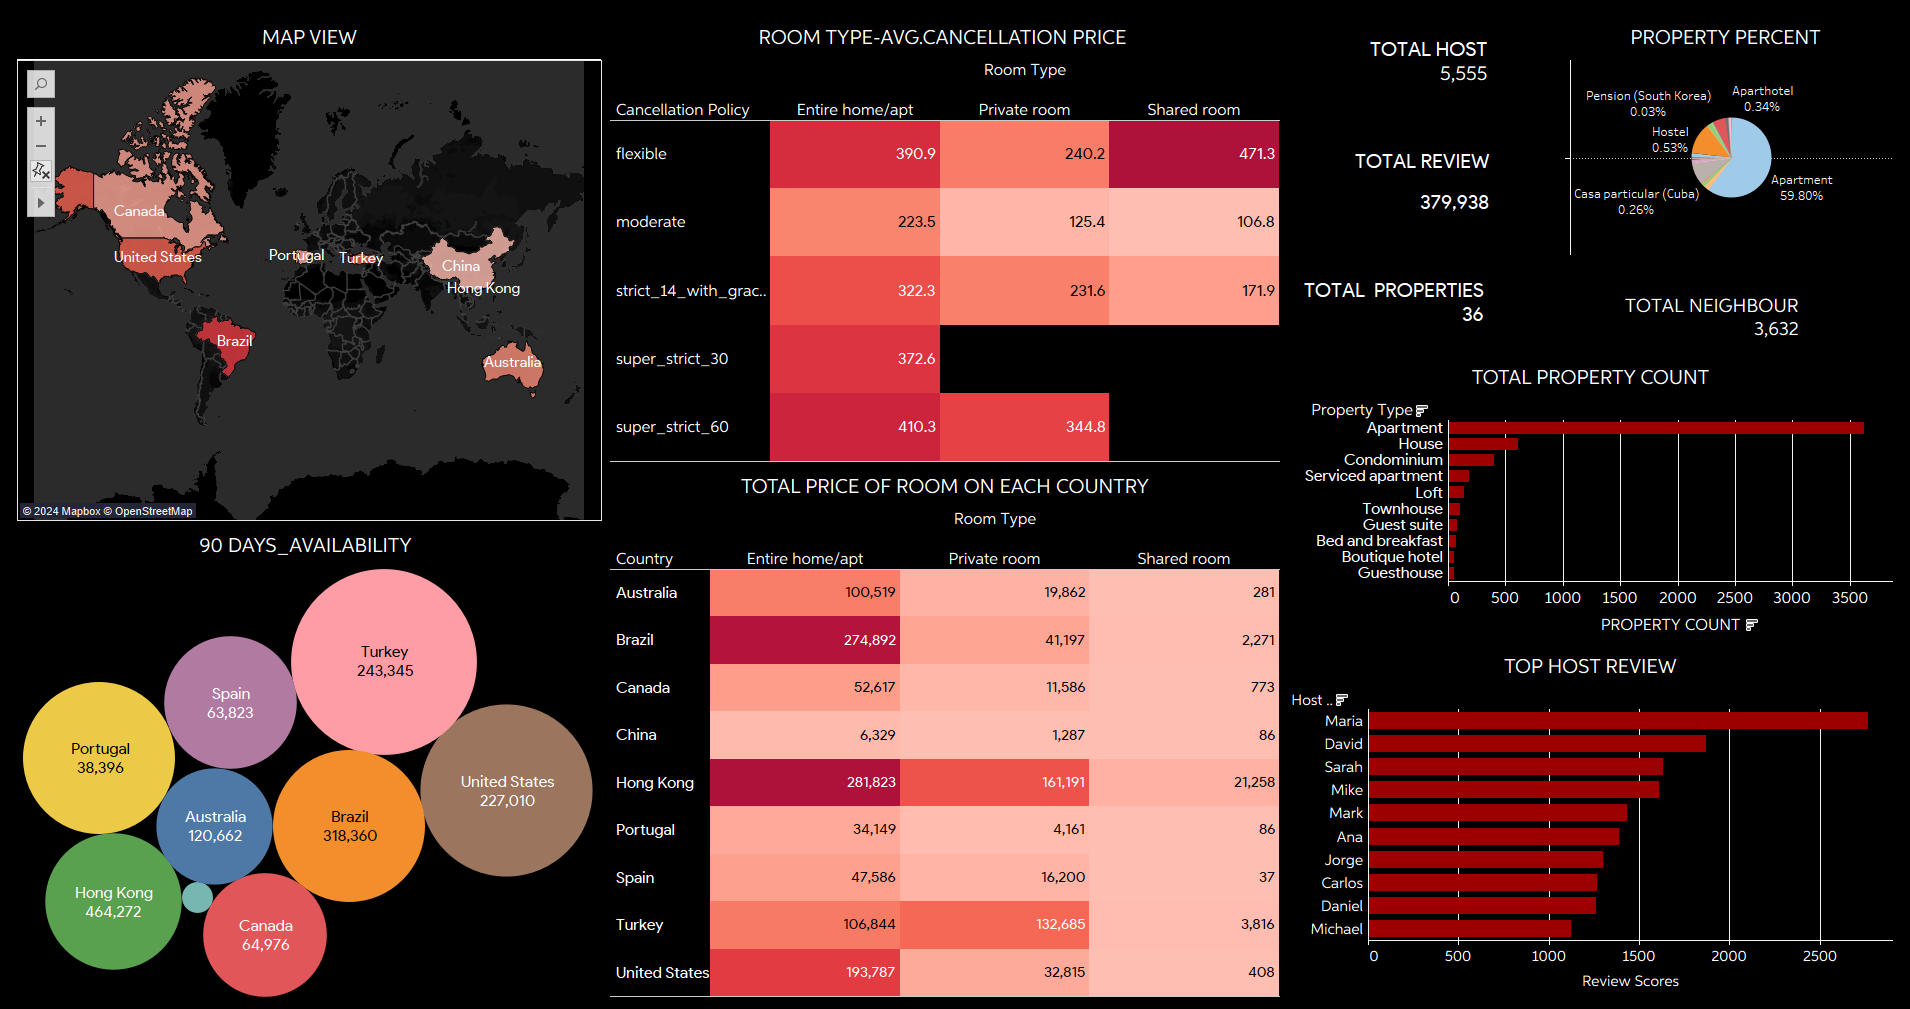

This screenshot's page, from the dashboard's own definition file:
{"tool":"tableau","page":{"name":"Main_DS","canvas":[1900,1000],"ordinal":0},"visuals":[{"type":"worksheet","title":"Map View","mark":"Automatic","box":[8,8,593,508]},{"type":"worksheet","title":"Cancel Policy","mark":"Square","rows":["cancellation_policy"],"cols":["room_type"],"box":[601,8,678,449]},{"type":"worksheet","title":"Total Host","mark":"Automatic","box":[1279,8,270,112]},{"type":"worksheet","title":"Pie","mark":"Pie","rows":["Calculation_1005710121150677008"],"box":[1549,8,343,242]},{"type":"worksheet","title":"Total Review","mark":"Automatic","box":[1279,120,270,114]},{"type":"worksheet","title":"Total Properties","mark":"Automatic","box":[1279,234,270,114]},{"type":"worksheet","title":"Total Neighbourhood","mark":"Automatic","box":[1549,250,343,98]},{"type":"worksheet","title":"Top Property types","mark":"Automatic","rows":["property_type"],"cols":["Calculation_1005710121127071745"],"box":[1279,348,613,289]},{"type":"worksheet","title":"Price of room types","mark":"Square","rows":["country"],"cols":["room_type"],"box":[601,457,678,535]},{"type":"worksheet","title":"Availability","mark":"Circle","box":[8,516,593,476]},{"type":"worksheet","title":"Top Host review","mark":"Automatic","rows":["host_name"],"cols":["review_scores"],"box":[1279,637,613,355]}]}

Visuals, with their boxes in screenshot pixels (x1, y1, x2, y2), scaled from the page's 1900x1000 canvas onto the 1910x1009 screenshot:
"Map View" worksheet: [x1=8, y1=8, x2=604, y2=521]
"Cancel Policy" worksheet (Square marks): [x1=604, y1=8, x2=1286, y2=461]
"Total Host" worksheet: [x1=1286, y1=8, x2=1557, y2=121]
"Pie" worksheet (Pie marks): [x1=1557, y1=8, x2=1902, y2=252]
"Total Review" worksheet: [x1=1286, y1=121, x2=1557, y2=236]
"Total Properties" worksheet: [x1=1286, y1=236, x2=1557, y2=351]
"Total Neighbourhood" worksheet: [x1=1557, y1=252, x2=1902, y2=351]
"Top Property types" worksheet: [x1=1286, y1=351, x2=1902, y2=643]
"Price of room types" worksheet (Square marks): [x1=604, y1=461, x2=1286, y2=1001]
"Availability" worksheet (Circle marks): [x1=8, y1=521, x2=604, y2=1001]
"Top Host review" worksheet: [x1=1286, y1=643, x2=1902, y2=1001]
